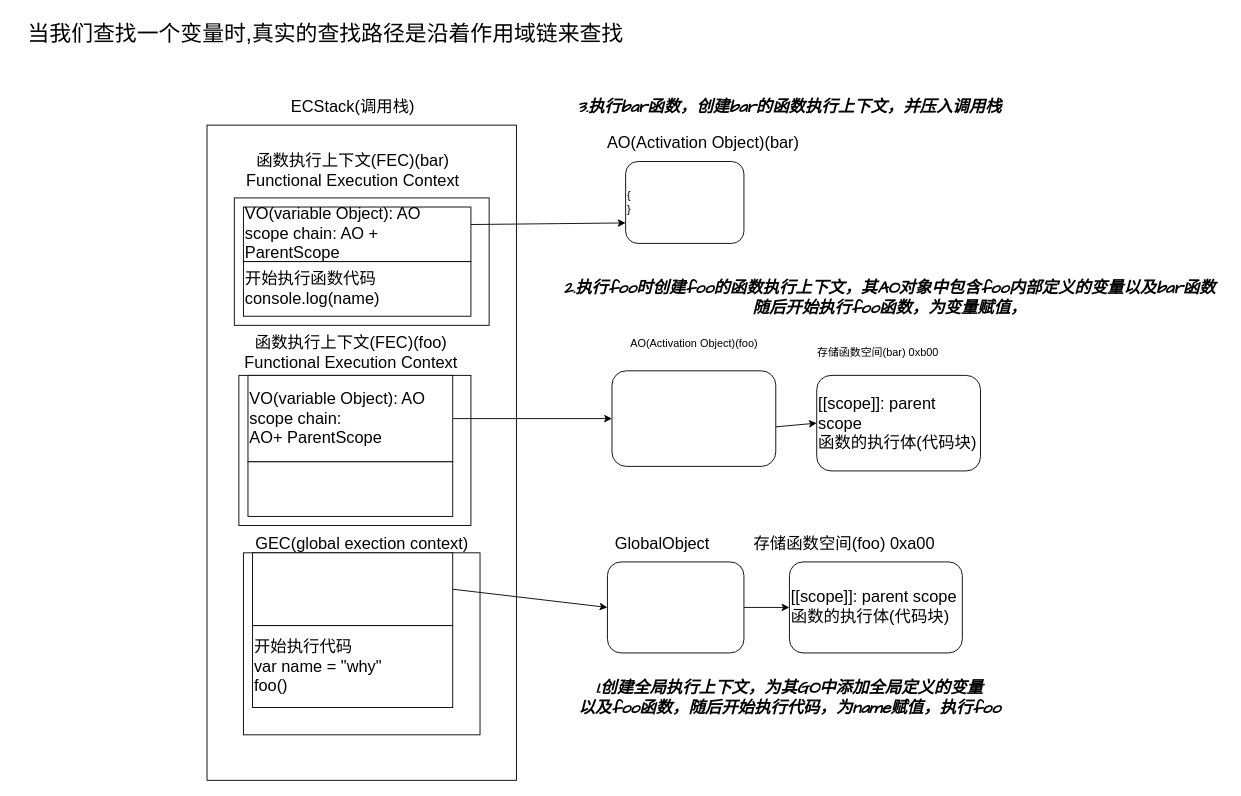
Some shapes in this 1241 by 796 pixel diagram are drawn without their labels. Here are the shapes that lost their labels. From the top down, the centre of each, then its label:
point (693, 418): { num: 123 m: 10 n: 20 bar: 0xb00 }
point (350, 488): 开始执行foo函数代码
point (352, 589): VO(variable Object): GO
point (675, 607): { name: "why" foo: 0xa00 }
